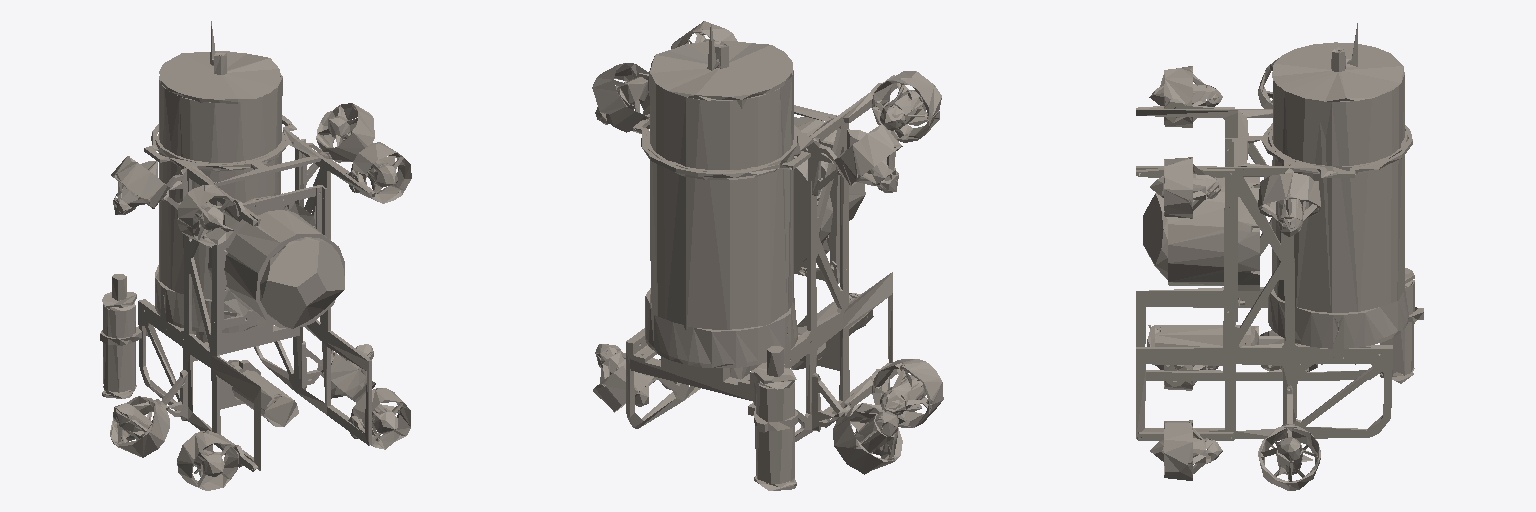
URDF robot description (FullSubV6.5):
<robot
  name="FullSubV6.5">
  <link
    name="base_link">
    <inertial>
      <origin
        xyz="-0.288095735170772 -0.461487466001624 0.420847253442371"
        rpy="0 0 0" />
      <mass
        value="12.0402580357079" />
      <inertia
        ixx="0.339837446412162"
        ixy="-0.00710856649692138"
        ixz="-0.00439921566374207"
        iyy="0.186374894960093"
        iyz="-0.00780267565736607"
        izz="0.303768511784769" />
    </inertial>
    <visual>
      <origin
        xyz="0 0 0"
        rpy="0 0 0" />
      <geometry>
        <mesh
          filename="package://FullSubV6.5/meshes/base_link.STL" />
      </geometry>
      <material
        name="">
        <color
          rgba="0.647058823529412 0.619607843137255 0.588235294117647 1" />
      </material>
    </visual>
    <collision>
      <origin
        xyz="0 0 0"
        rpy="0 0 0" />
      <geometry>
        <mesh
          filename="package://FullSubV6.5/meshes/base_link.STL" />
      </geometry>
    </collision>
  </link>
</robot>

--- Render facts (derived) ---
Views: 3 orthographic renders of the robot side by side, from view 1: azimuth 30°, elevation 25°; view 2: azimuth 150°, elevation 25°; view 3: azimuth 270°, elevation 25°.
Robot: FullSubV6.5 — 1 links, 0 joints (none); root link base_link; default pose: all joints at 0.
Visible links, largest first — view 1: base_link; view 2: base_link; view 3: base_link.
Boxes of the visible links, box(x1,y1,x2,y2) form: base_link: box(100, 21, 411, 490); base_link: box(592, 21, 943, 490); base_link: box(1136, 23, 1423, 490).
Size in the robot's own frame: 12.47 by 11.18 by 17.72 metres.
Meshes: 1 distinct files referenced, 1 mesh visuals loaded (1 binary STL).